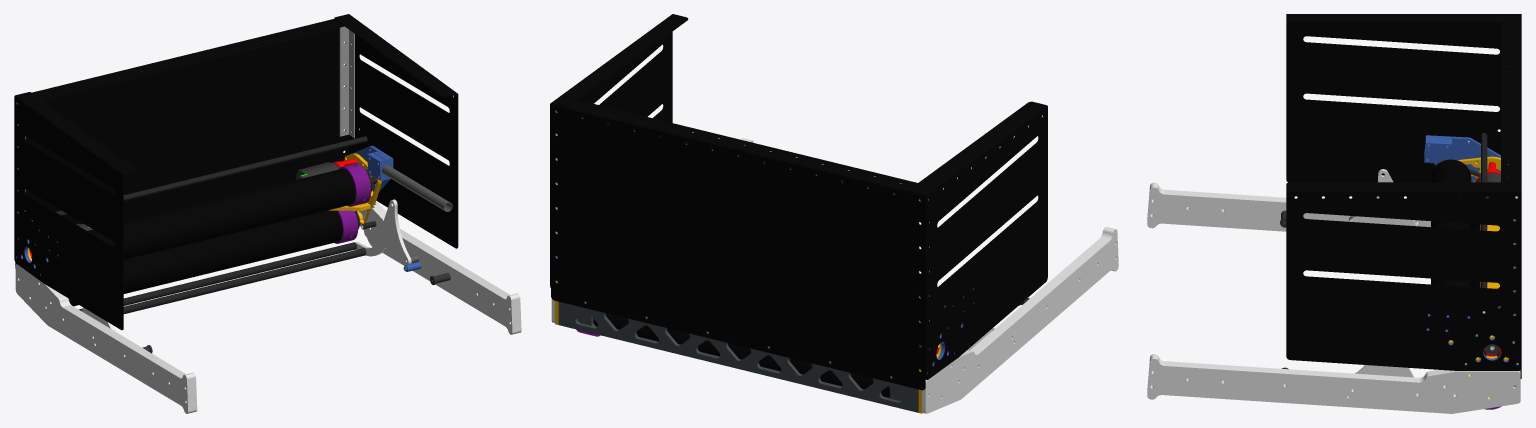
3 views of the same model, side by side, from view 1: azimuth 30°, elevation 25°; view 2: azimuth 150°, elevation 25°; view 3: azimuth 270°, elevation 25° (orthographic). The views are drawn at different scales.
Visible parts, largest first — view 1: 3354-2026-CS2-2000-PC 1.5mm N1-1, 3354-2026-CS2-2000-PC 1.5mm N1-3, 3354-2026-CS2-2000-Roller-PC-1 (×2), 3354-2026-CS2-2000-PC 1.5mm N1-2, 3354-2026-CS2-2000-PC-6mm-6, 1/2" Round Shaft (22.77") (×2), 3354-2026-CS2-2000-PC-6mm-3, 3/8" Thunderhex Shaft (25.965"), L_Metal_Lab2, 3354-2026-OFF1-2000-Kicker-PC 1/4in-1, Print for PoliTube (×2), 3D Printed Spacer (10") (+5 smaller); view 2: 3354-2026-CS2-2000-PC 1.5mm N1-1, 3354-2026-CS2-2000-PC 1.5mm N1-3, 3354-2026-CS2-2000-PC-6mm-6, 3354-2026-CS2-2000-AL7075-0.25-2, 3354-2026-CS2-2000-PC 1.5mm N1-2, 3354-2026-CS2-2000-Roller-PC-1, 3354-2026-CS2-2000-PC-6mm-5, 3354-2026-CS2-2000-PC-6mm-4; view 3: 3354-2026-CS2-2000-PC 1.5mm N1-2, 3354-2026-CS2-2000-PC 1.5mm N1-3, 3354-2026-CS2-2000-PC-6mm-1, 3354-2026-CS2-2000-PC-6mm-4, 3354-2026-CS2-2000-PC 1.5mm N1-1, 3354-2026-CS2-2000-Roller-PC-1, 3354-2026-OFF1-2000-Kicker-PC 1/4in-1 (×2), 3354-2026-CS2-2000-PETG-2, 3354-2026-CS2-2000-PC-6mm-2, 3354-2026-CS2-2000-PC-6mm-3, Part 22, 3/8" Thunderhex Shaft (25.965") (+1 smaller).
Part boxes in pixels (box(x1,y1,x2,y2)): 3354-2026-CS2-2000-PC 1.5mm N1-1: box(15, 19, 349, 268); 3354-2026-CS2-2000-PC 1.5mm N1-3: box(14, 92, 137, 330); 3354-2026-CS2-2000-Roller-PC-1 (×2): box(69, 168, 355, 306); 3354-2026-CS2-2000-PC 1.5mm N1-2: box(334, 14, 458, 248); 3354-2026-CS2-2000-PC-6mm-6: box(15, 264, 191, 413); 1/2" Round Shaft (22.77") (×2): box(79, 242, 366, 313); 3354-2026-CS2-2000-PC-6mm-3: box(365, 207, 515, 334); 3/8" Thunderhex Shaft (25.965"): box(31, 136, 367, 221); L_Metal_Lab2: box(339, 26, 354, 138); 3354-2026-OFF1-2000-Kicker-PC 1/4in-1: box(355, 199, 411, 265); Print for PoliTube (×2): box(334, 163, 371, 243); 3D Printed Spacer (10"): box(382, 165, 452, 211); 3354-2026-CS2-2000-PC 1.5mm N1-1: box(551, 100, 925, 390); 3354-2026-CS2-2000-PC 1.5mm N1-3: box(909, 101, 1047, 379); 3354-2026-CS2-2000-PC-6mm-6: box(922, 228, 1118, 413); 3354-2026-CS2-2000-AL7075-0.25-2: box(558, 301, 918, 412); 3354-2026-CS2-2000-PC 1.5mm N1-2: box(550, 14, 688, 287); 3354-2026-CS2-2000-Roller-PC-1: box(593, 313, 889, 397); 3354-2026-CS2-2000-PC-6mm-5: box(964, 227, 1112, 353); 3354-2026-CS2-2000-PC-6mm-4: box(970, 227, 1108, 351); 3354-2026-CS2-2000-PC 1.5mm N1-2: box(1286, 182, 1521, 370); 3354-2026-CS2-2000-PC 1.5mm N1-3: box(1286, 14, 1521, 182); 3354-2026-CS2-2000-PC-6mm-1: box(1147, 357, 1520, 413); 3354-2026-CS2-2000-PC-6mm-4: box(1147, 186, 1430, 231); 3354-2026-CS2-2000-PC 1.5mm N1-1: box(1501, 22, 1521, 378); 3354-2026-CS2-2000-Roller-PC-1: box(1431, 159, 1471, 286); 3354-2026-OFF1-2000-Kicker-PC 1/4in-1 (×2): box(1348, 169, 1416, 377); 3354-2026-CS2-2000-PETG-2: box(1424, 135, 1509, 182); 3354-2026-CS2-2000-PC-6mm-2: box(1147, 355, 1455, 396); 3354-2026-CS2-2000-PC-6mm-3: box(1147, 354, 1443, 389); Part 22: box(1424, 139, 1451, 163); 3/8" Thunderhex Shaft (25.965"): box(1481, 133, 1487, 313).
Bounding box in the file's own units: 0.6625 × 0.3977 × 0.5915.
